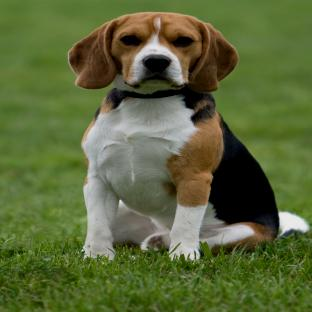Animal: (69, 12, 308, 260)
